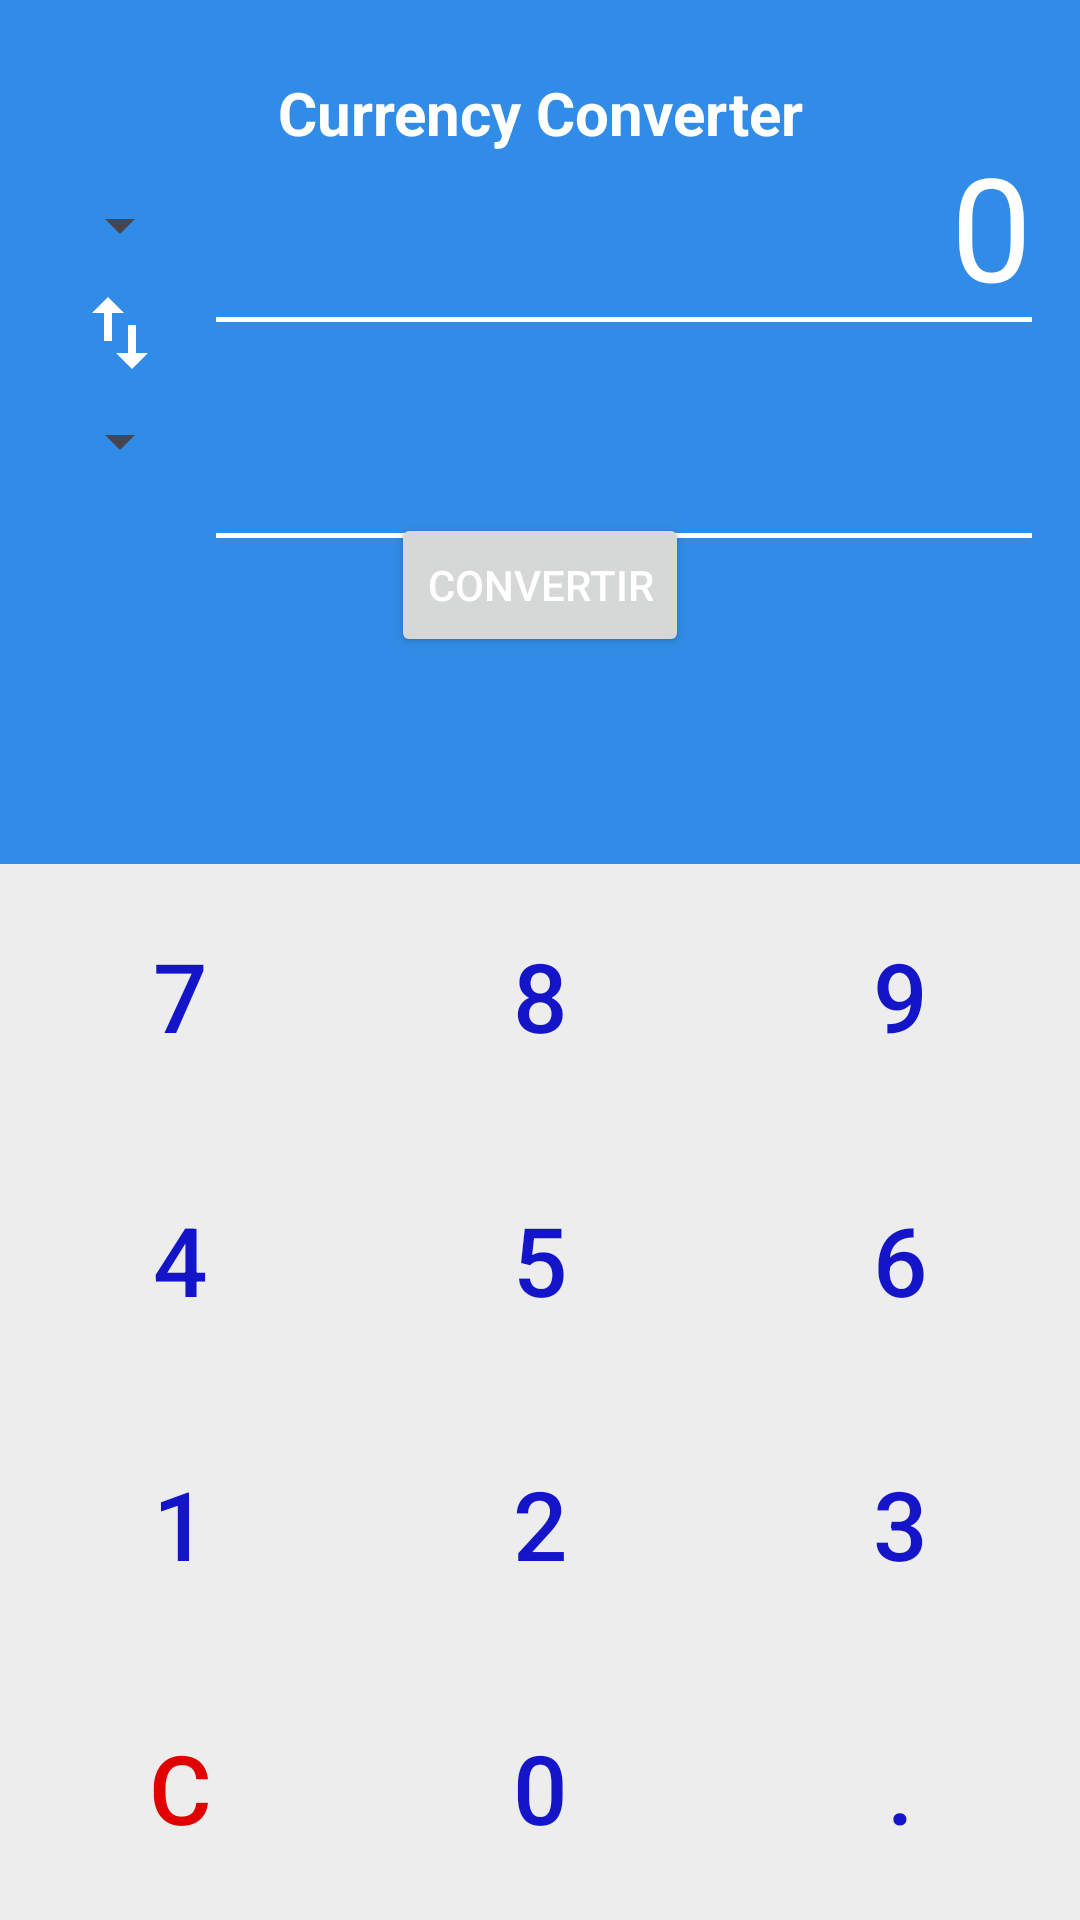

Locate icon controls on the screen. Image size 1080px x 1920px, boxes as (x1, y1, x2, y2).
Inverser les devises: (92, 297, 148, 369)
